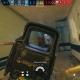Character: (38, 40, 42, 42)
